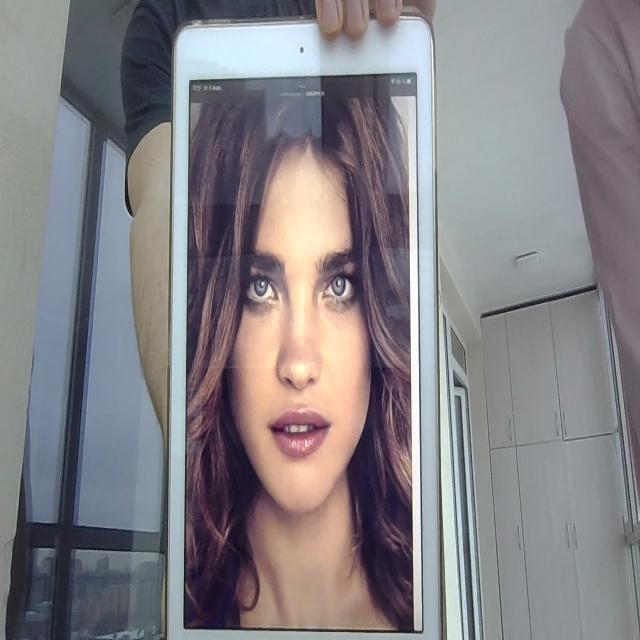bottle: (161, 6, 446, 640)
